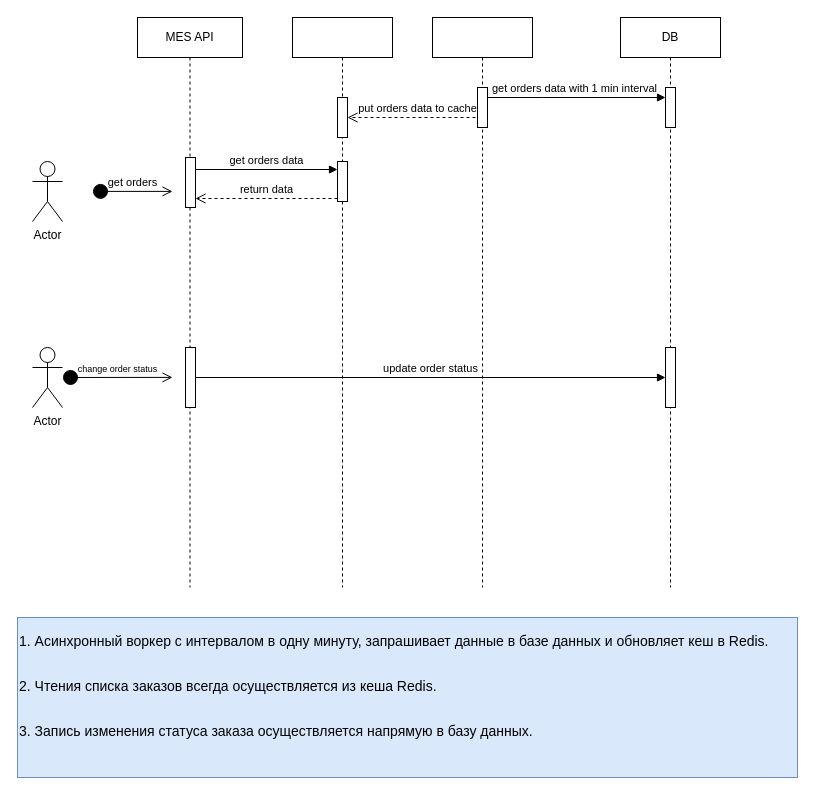
Some shapes in this 815 by 798 pixel diagram are drawn without their labels. The shapes that lost their labels are listed below. From the top down, each one's box as (x1, y1, x2, y2) in pixels, then its label:
(292, 16, 392, 588): Redis
(432, 16, 532, 588): Async Worker
